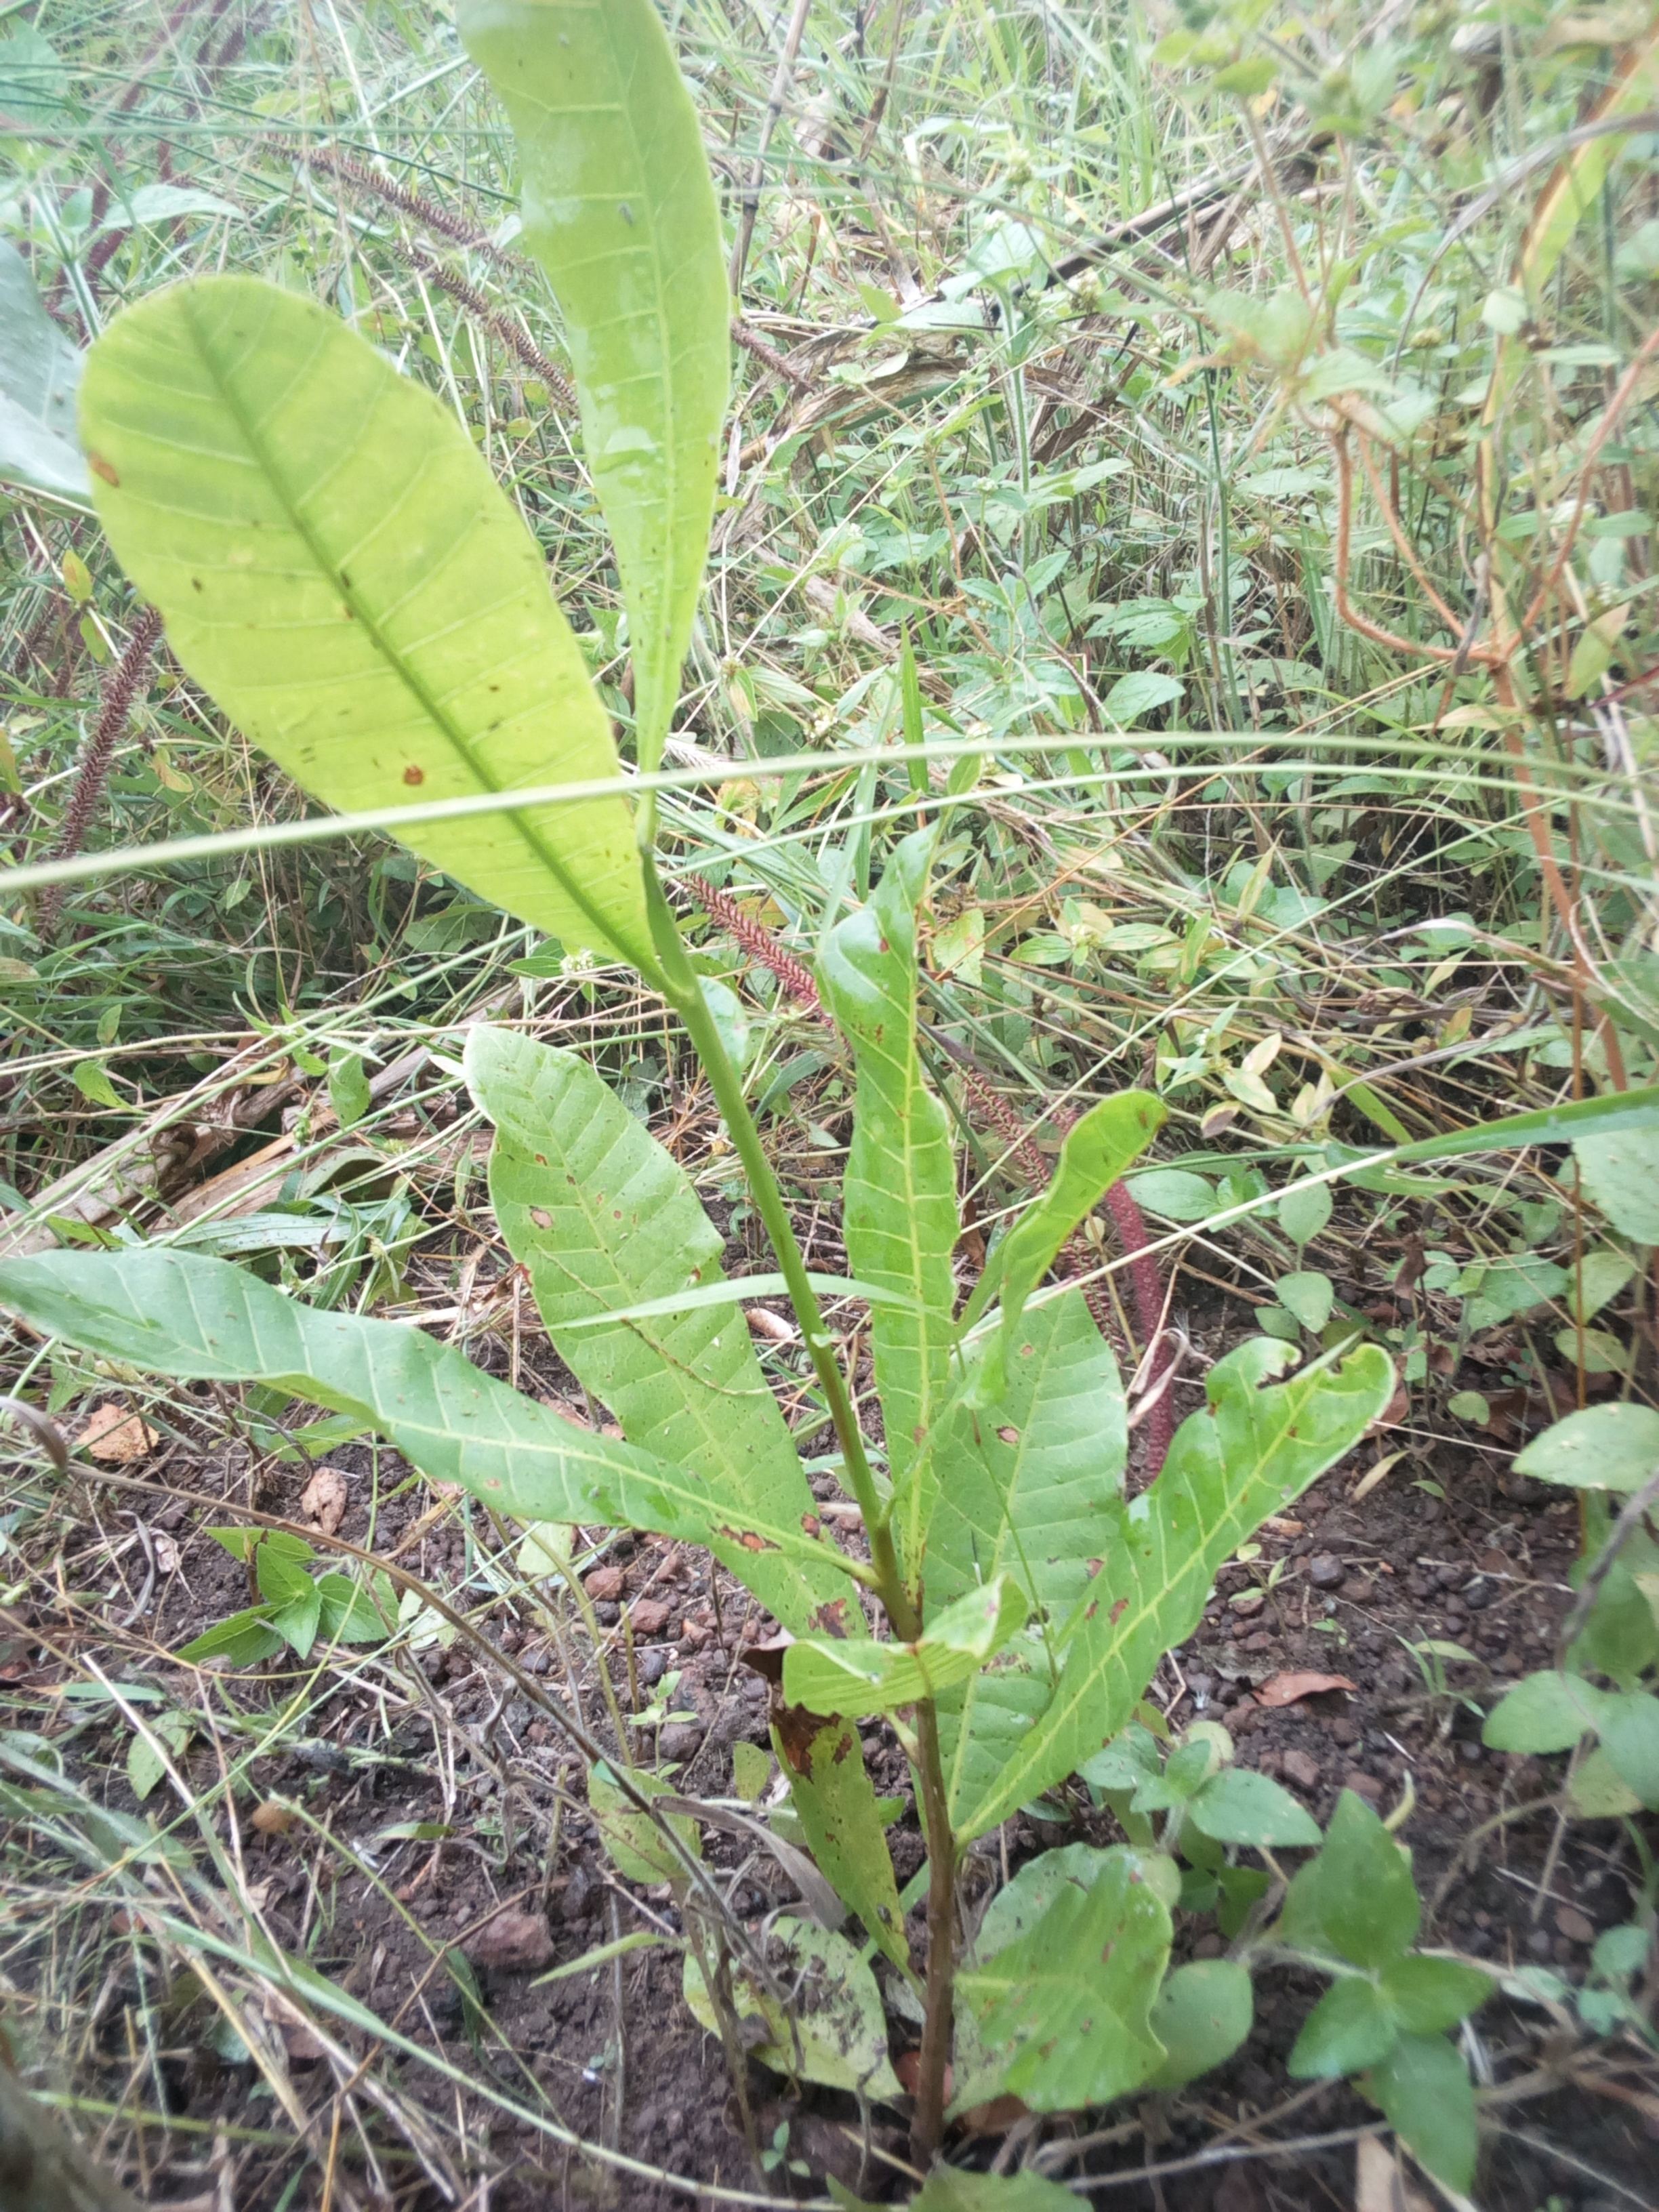Dysdercus wolkerii: (739, 1622, 945, 2041)
